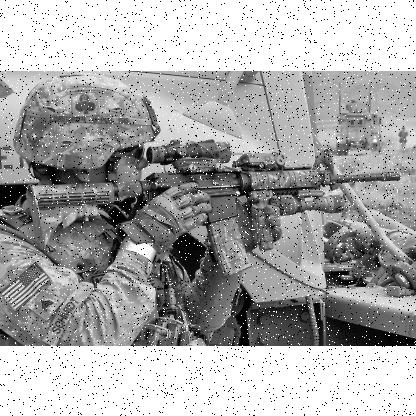gun: (25, 138, 401, 276)
